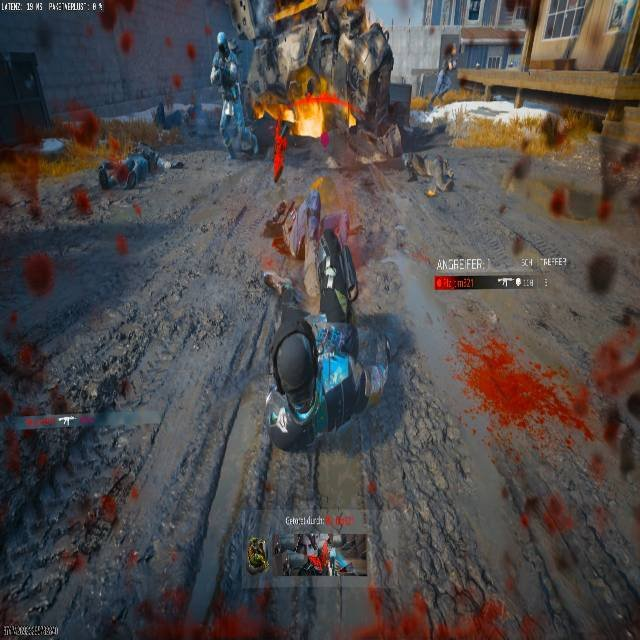head: (448, 42, 454, 49)
player: (253, 515, 372, 640), (444, 42, 456, 71)
